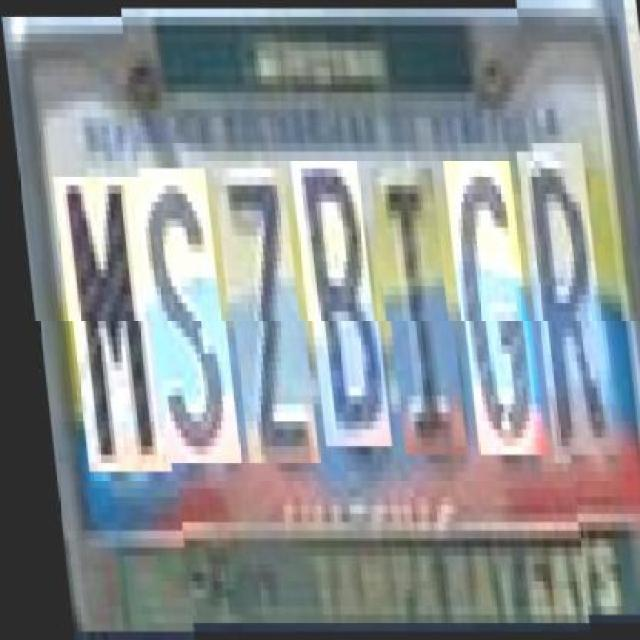b: (290, 159, 382, 447)
g: (443, 160, 535, 455)
i: (370, 168, 458, 454)
m: (52, 168, 156, 464)
r: (517, 151, 611, 464)
s: (131, 168, 231, 464)
z: (212, 168, 310, 464)
